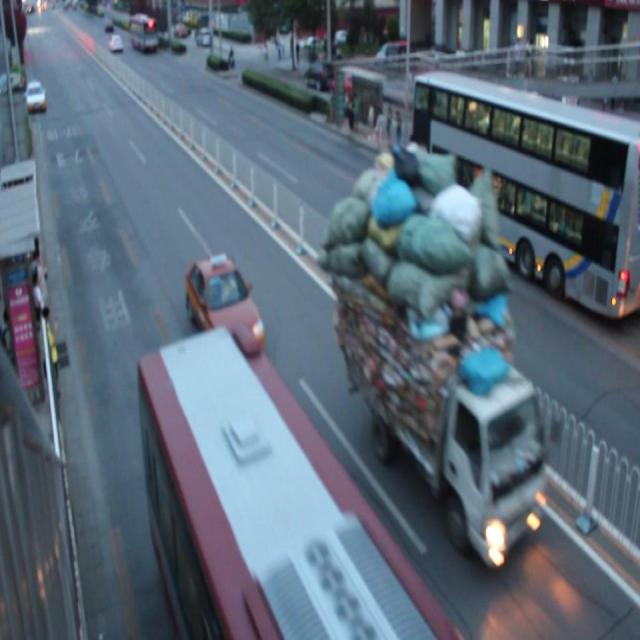bus: (351, 147, 541, 558)
car: (184, 255, 267, 354)
van: (136, 333, 456, 640), (410, 71, 640, 315)
